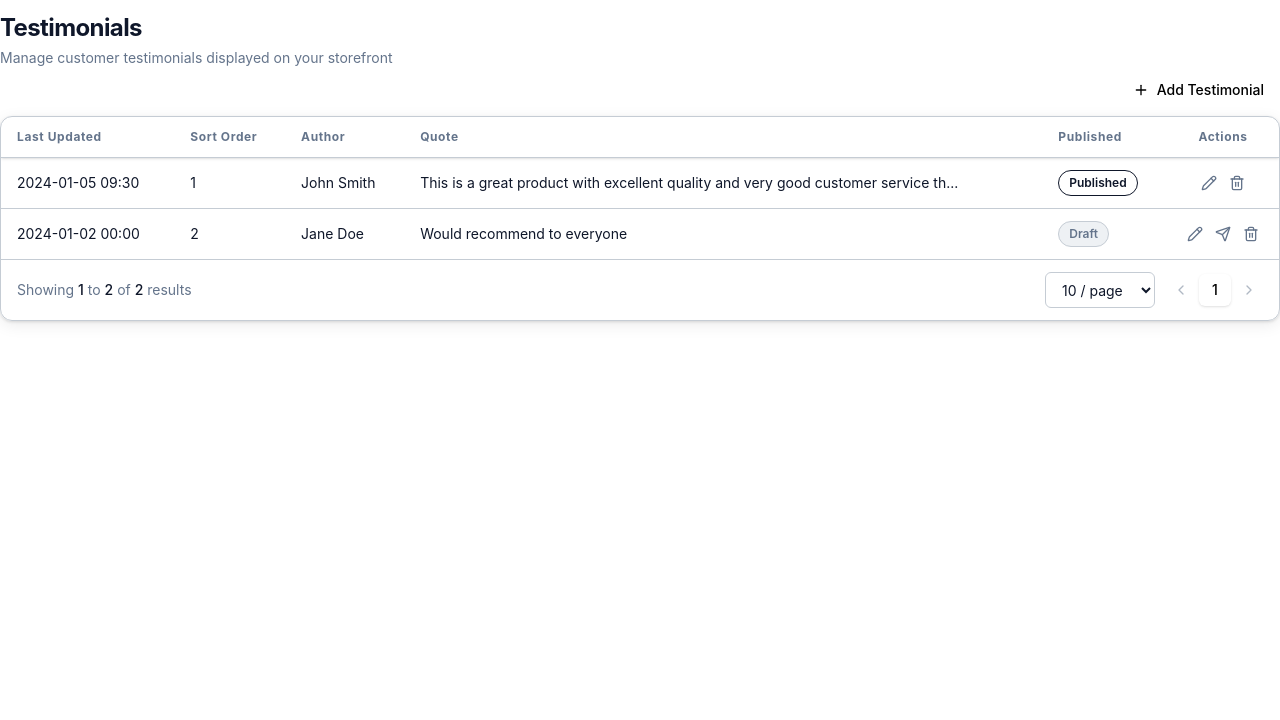
TestimonialsPage › SUPER_ADMIN role › clicking delete shows confirmation dialog
The image size is (1280, 720).
Click the button named "delete testimonial by john smith": (1237,183) [1225,171,1249,195]
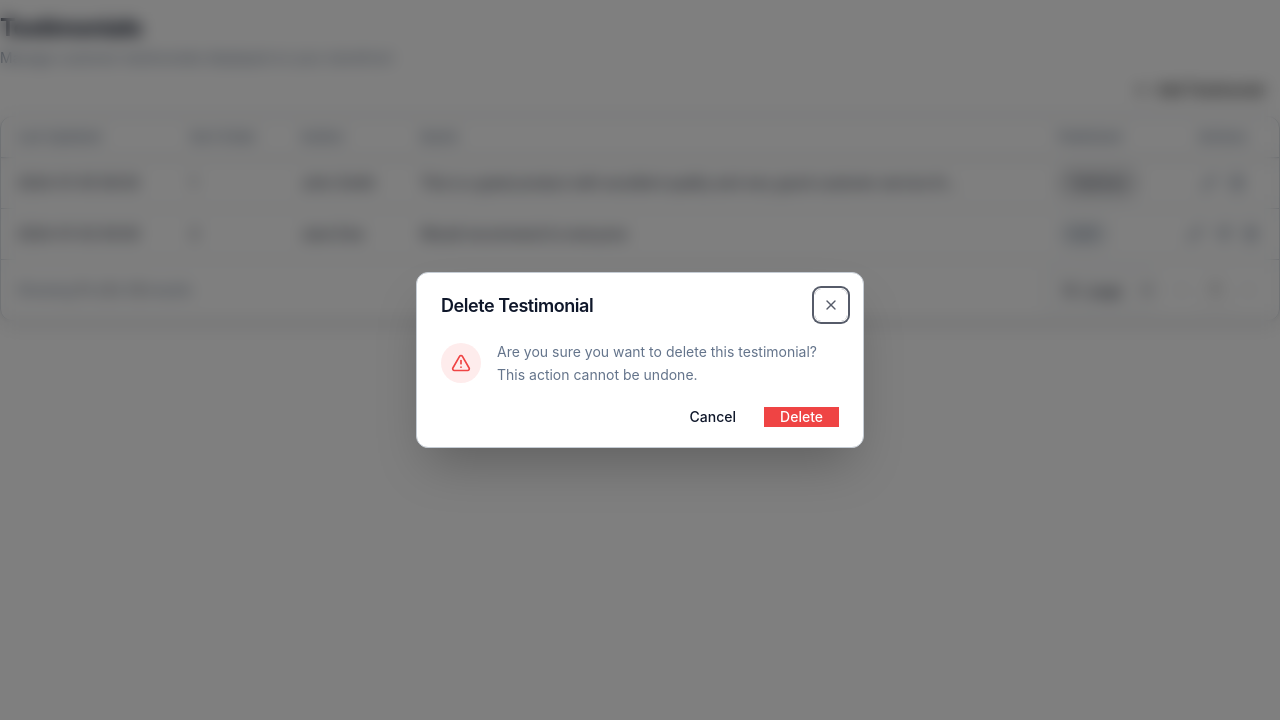
expect the text "Delete Testimonial" is shown: met, box [441,295,593,316]
expect the text "cannot be undone" is shown: met, box [497,343,817,383]
